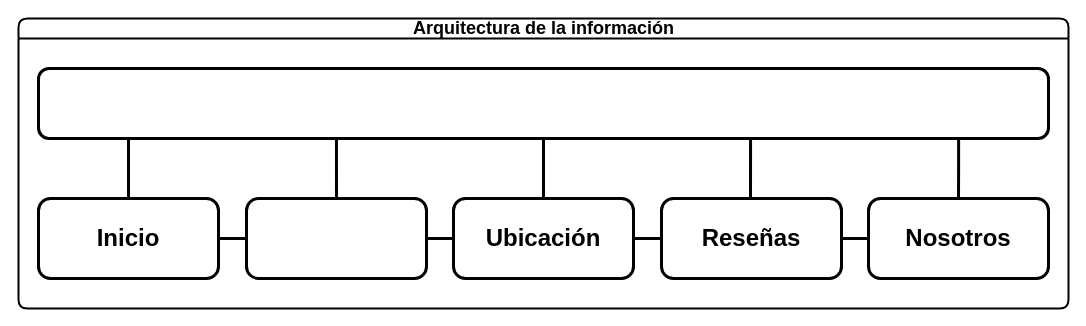
Some shapes in this 1086 by 326 pixel diagram are drawn without their labels. The shapes that lost their labels are listed below. From the top down, each one's box as (x1, y1, x2, y2) in pixels, then its label:
(36, 66, 1050, 140): Estación del Sabor
(244, 196, 428, 280): Menú
